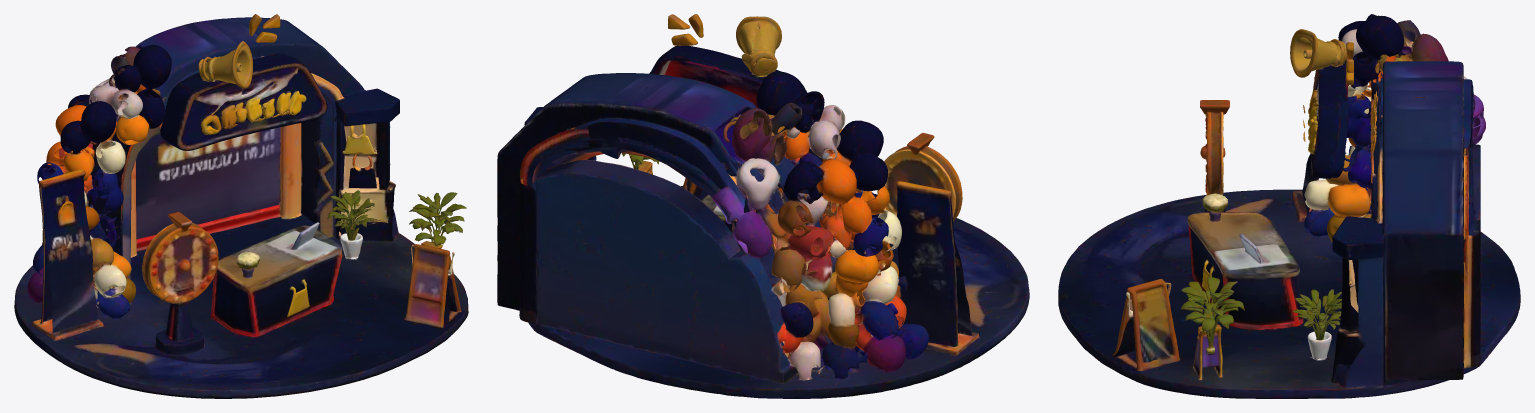
File: brand-activation.glb
The picture shows the model from 3 angles, left to right: view 1: azimuth 30°, elevation 25°; view 2: azimuth 150°, elevation 25°; view 3: azimuth 270°, elevation 25°; orthographic projection. The views are drawn at different scales.
Parts seen in each view (by area): view 1: world; view 2: world; view 3: world.
Part boxes in pixels (x1=…): world: x1=14, y1=14, x2=468, y2=398; world: x1=497, y1=14, x2=1029, y2=398; world: x1=1058, y1=14, x2=1520, y2=398.
Bounding box in the file's own units: 1 × 0.6553 × 0.9758.
Materials: 1 (1 with a texture image).
